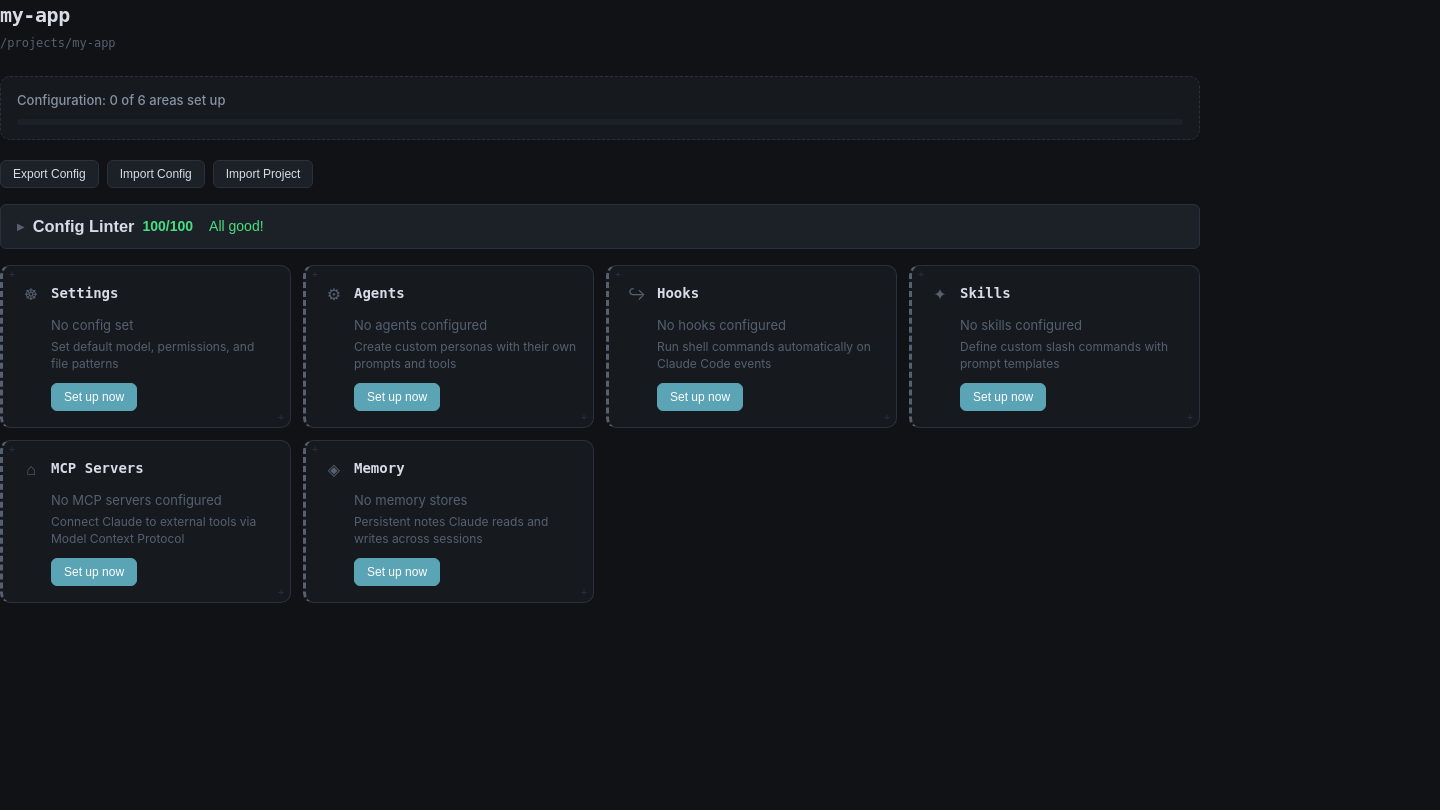
OverviewPage › opens export modal with JSON when Export Config is clicked
Click the button "Export Config": click(49, 174) [0,160,99,188]
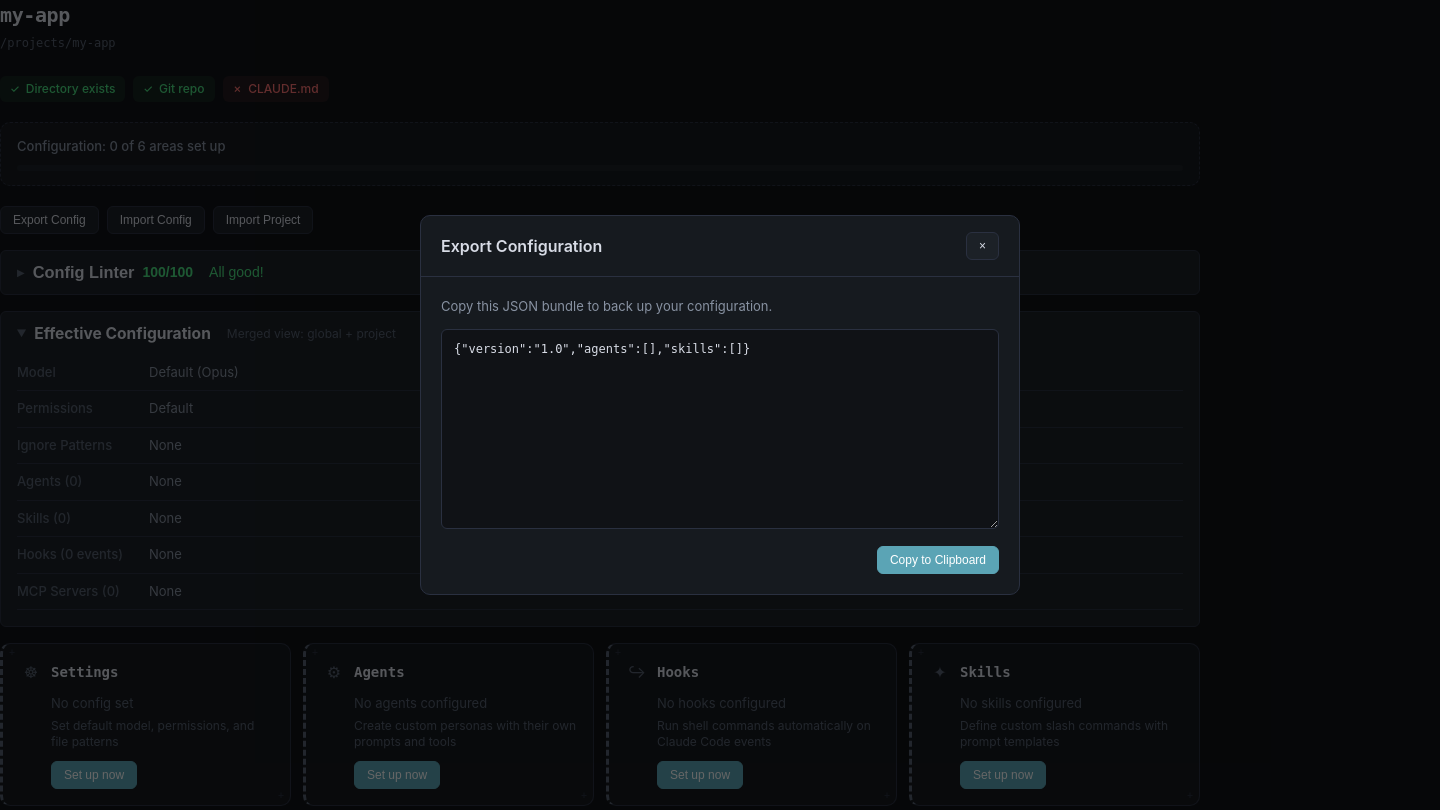
Check: the heading "Export Configuration" is shown, box [441,234,602,258]
Check: the button "Copy to Clipboard" is shown, box [877,546,999,574]
